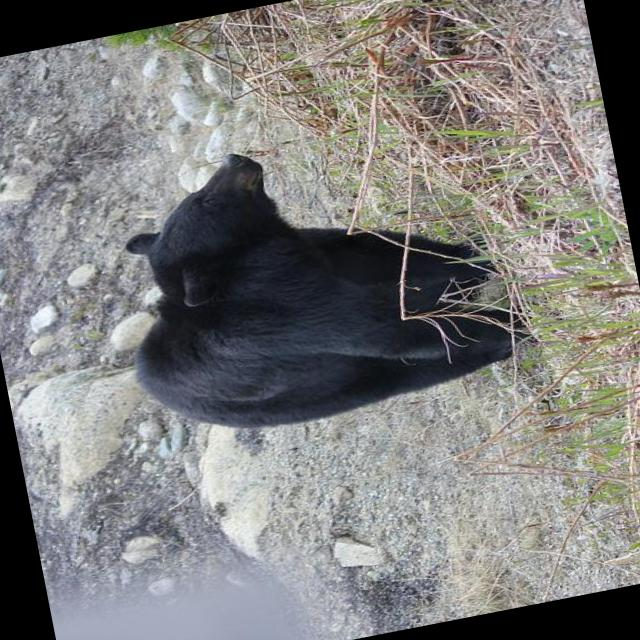bear: (101, 105, 532, 448)
